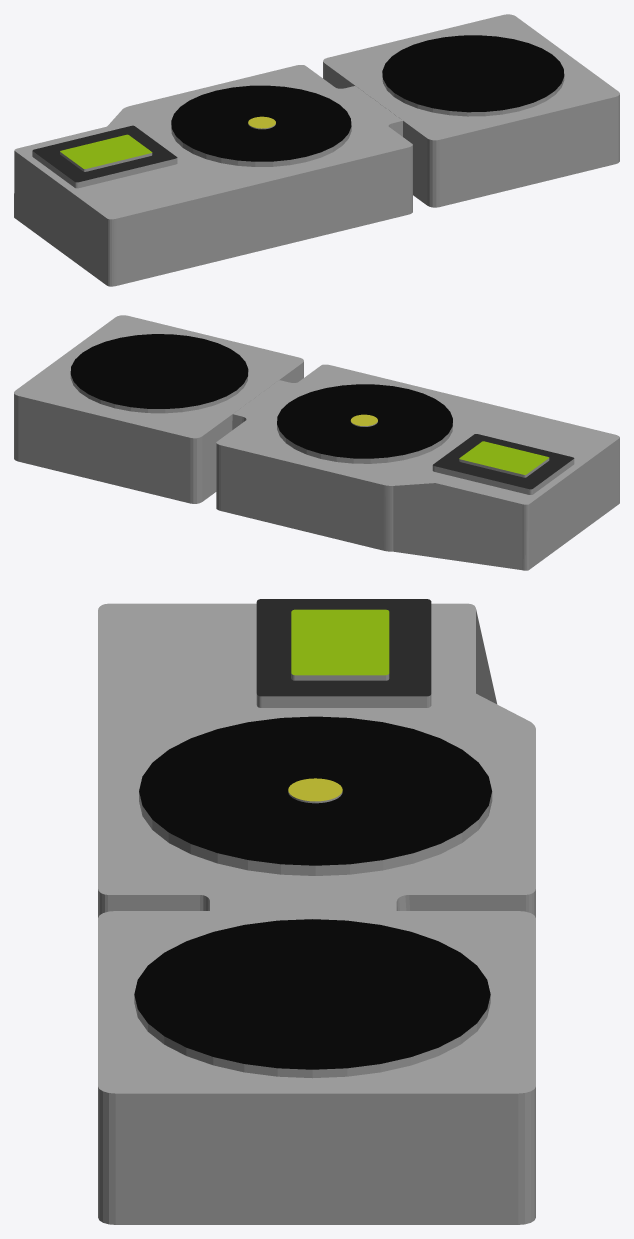
The model's file is Iphone camara frontal.fbx.
3 views of the same model, one above another, from view 1: azimuth 30°, elevation 25°; view 2: azimuth 150°, elevation 25°; view 3: azimuth 270°, elevation 25° (orthographic). The views are drawn at different scales.
Parts seen in each view (by area): view 1: Plano.009, Plano.010; view 2: Plano.009, Plano.010; view 3: Plano.010, Plano.009.
Boxes of the visible parts, x1,y1,x2,y2 form: Plano.009: (14, 65, 412, 286); Plano.010: (323, 14, 619, 207); Plano.009: (216, 364, 619, 570); Plano.010: (14, 315, 303, 503); Plano.010: (98, 911, 535, 1224); Plano.009: (98, 599, 535, 917).
Bounding box in the file's own units: 0.4272 × 0.0604 × 0.1615.
